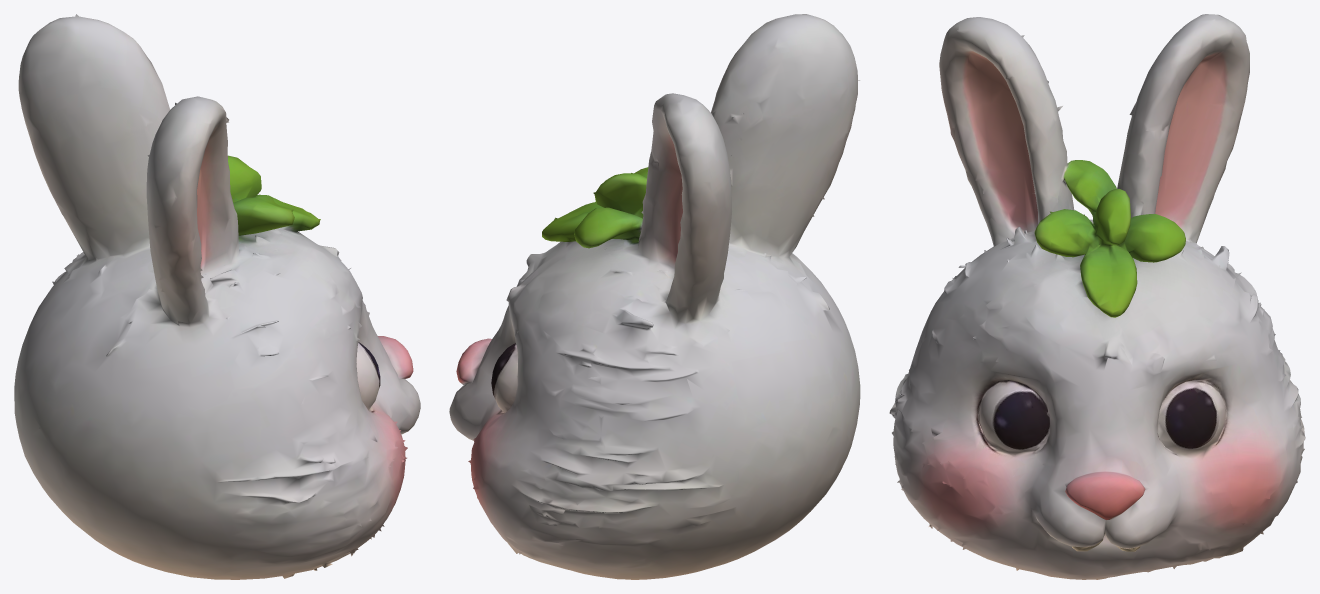
The model's file is head.glb.
The picture shows the model from 3 angles, left to right: view 1: azimuth 30°, elevation 25°; view 2: azimuth 150°, elevation 25°; view 3: azimuth 270°, elevation 25°; orthographic projection. The views are drawn at different scales.
Parts seen in each view (by area): view 1: tripo_node_dbc0ed26-558f-4db4-8381-184888ba472a; view 2: tripo_node_dbc0ed26-558f-4db4-8381-184888ba472a; view 3: tripo_node_dbc0ed26-558f-4db4-8381-184888ba472a.
Boxes of the visible parts, box(x1,y1,x2,y2) form: tripo_node_dbc0ed26-558f-4db4-8381-184888ba472a: box(14, 14, 420, 579); tripo_node_dbc0ed26-558f-4db4-8381-184888ba472a: box(449, 14, 860, 579); tripo_node_dbc0ed26-558f-4db4-8381-184888ba472a: box(889, 14, 1305, 579).
Size of the model in its own units: 0.7494 by 1 by 0.7566.
1 material, 1 textured.
